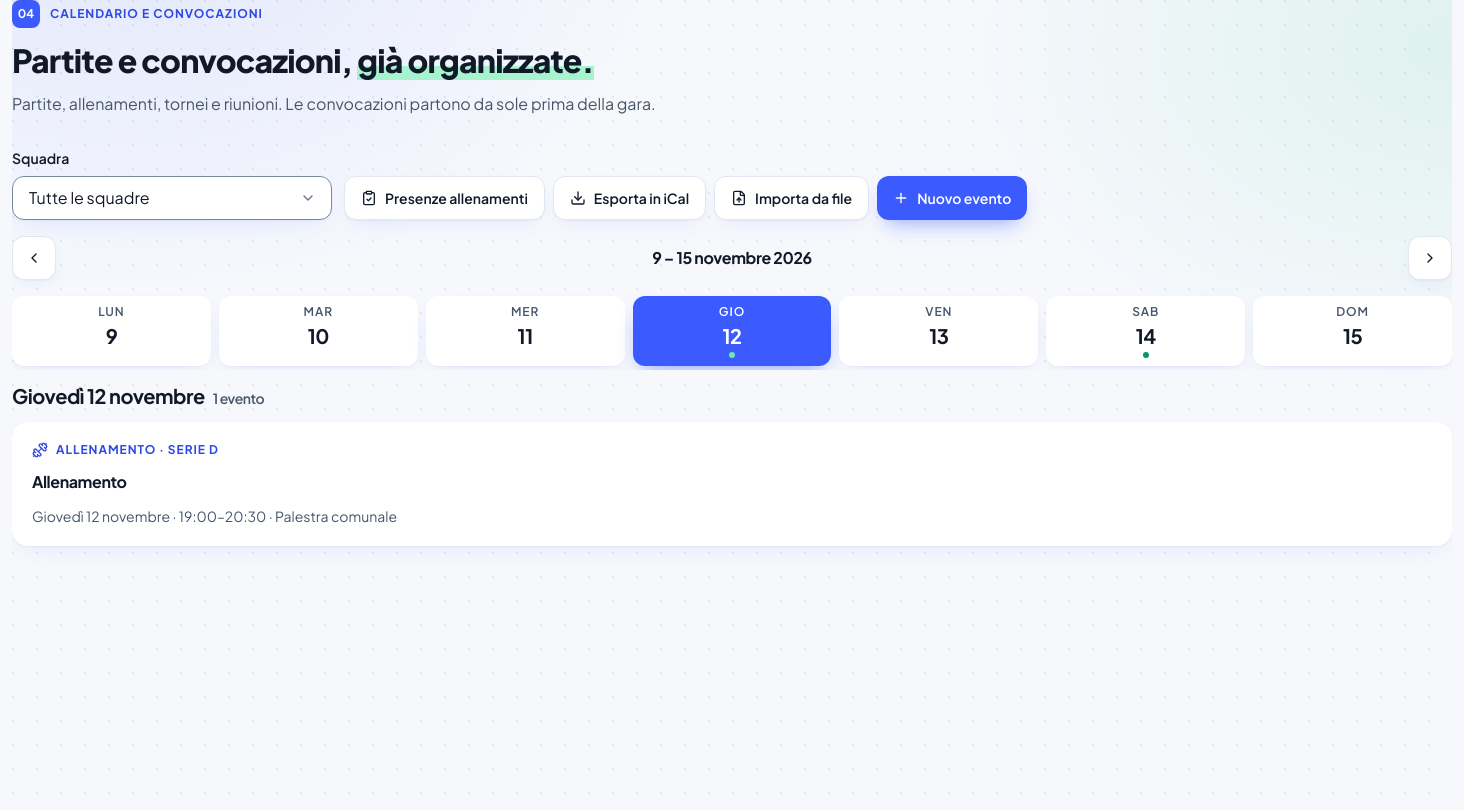
Test: CalendarioPage week view › explains an empty day and offers to add an event to those who can
Click the button named "ven 13 novembre" at (939, 331), box [839, 296, 1038, 366]
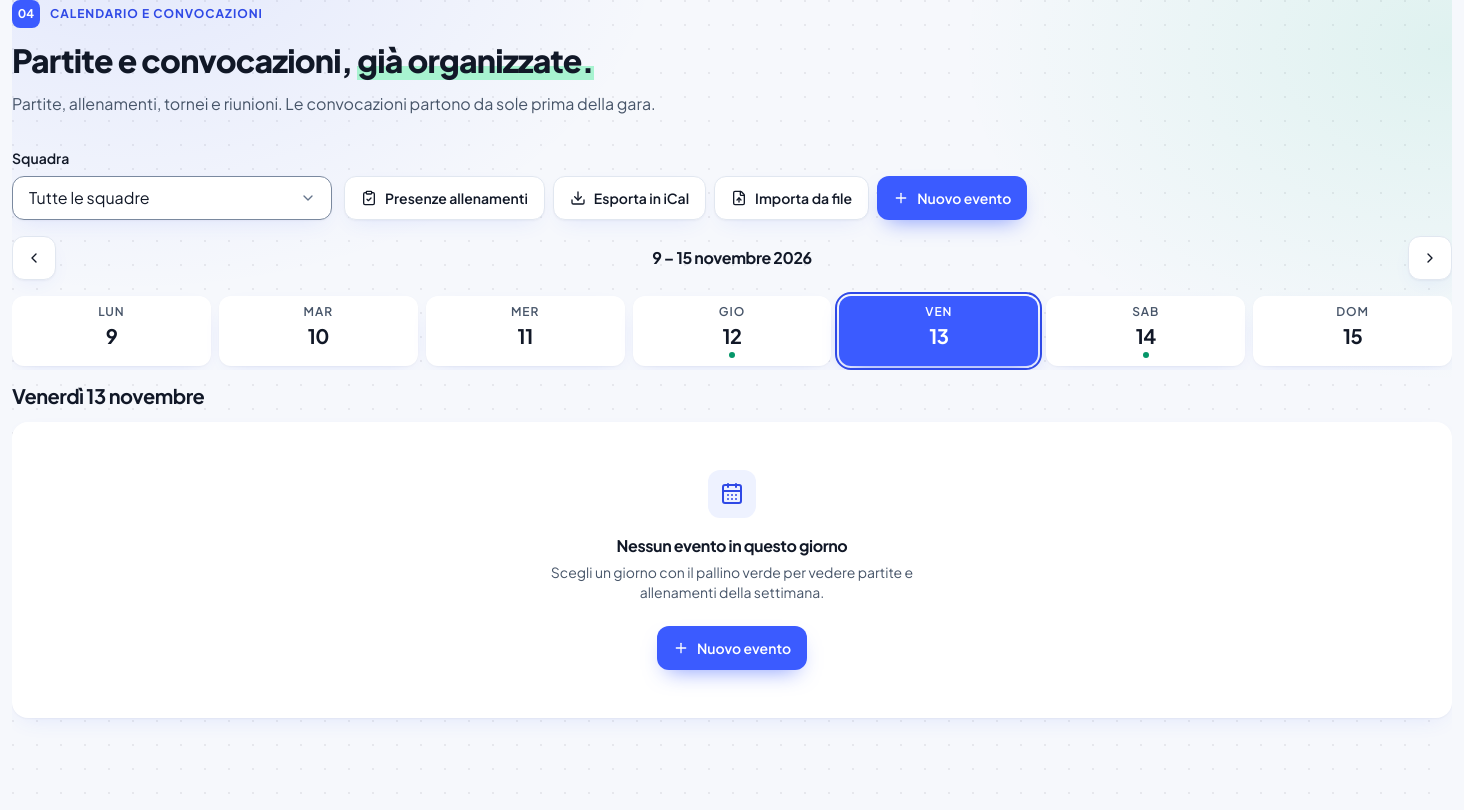
expect the heading "Nessun evento in questo giorno" is shown: met, box [617, 534, 847, 558]
expect the number of buttons "Nuovo evento" is 2: met, box [877, 176, 1027, 220]; [657, 626, 807, 670]
